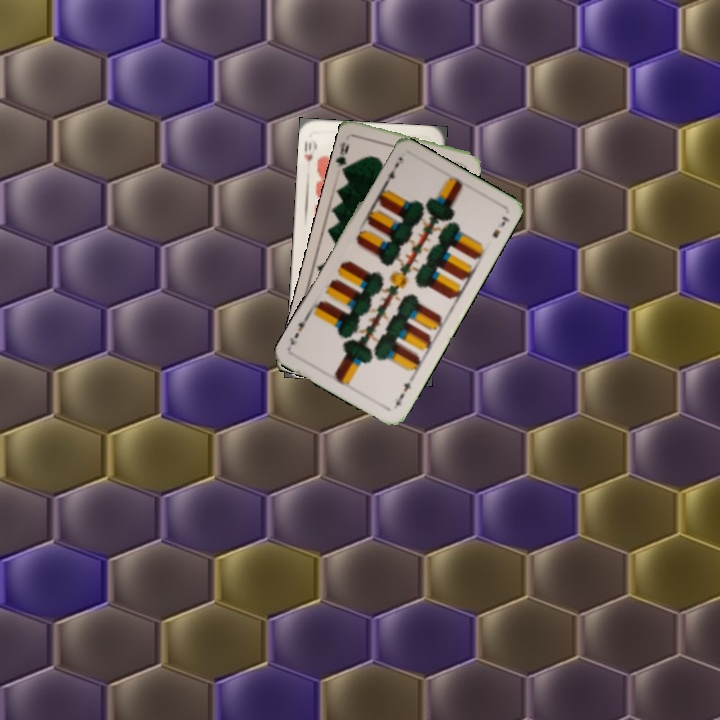E7: (391, 378, 415, 408), (380, 158, 402, 189)
G9: (333, 138, 353, 175)
H10: (300, 136, 319, 164)
